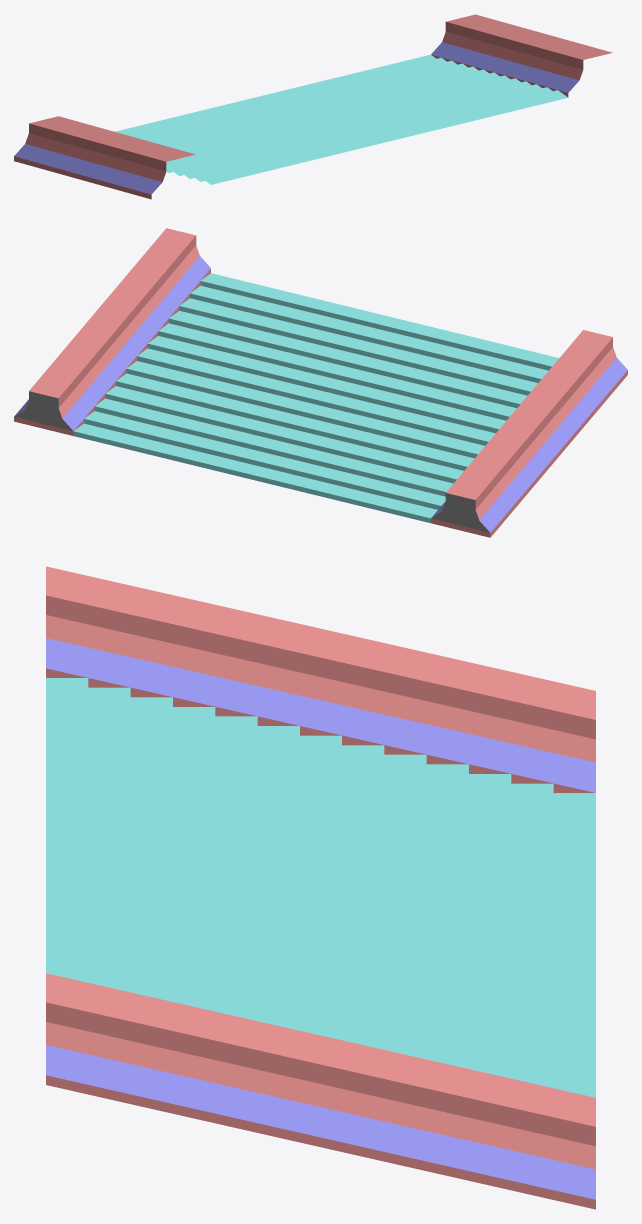
File: stair_01.gltf
The picture shows the model from 3 angles, top to bottom: view 1: azimuth 30°, elevation 25°; view 2: azimuth 150°, elevation 25°; view 3: azimuth 270°, elevation 25°; orthographic projection. The views are drawn at different scales.
Visible parts, largest first — view 1: stair_01; view 2: stair_01; view 3: stair_01.
Part boxes in pixels (bbox=[...]): stair_01: bbox=[14, 14, 612, 199]; stair_01: bbox=[14, 228, 627, 537]; stair_01: bbox=[46, 566, 595, 1209].
Size of the model in its own units: 5.12 by 0.99 by 2.56.
